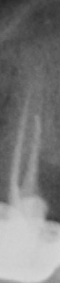fracture: (32, 110, 42, 148)
